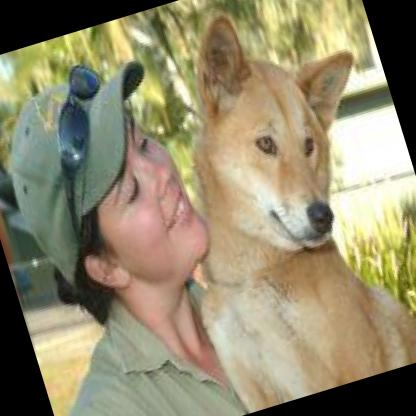dingo: (111, 0, 416, 415)
